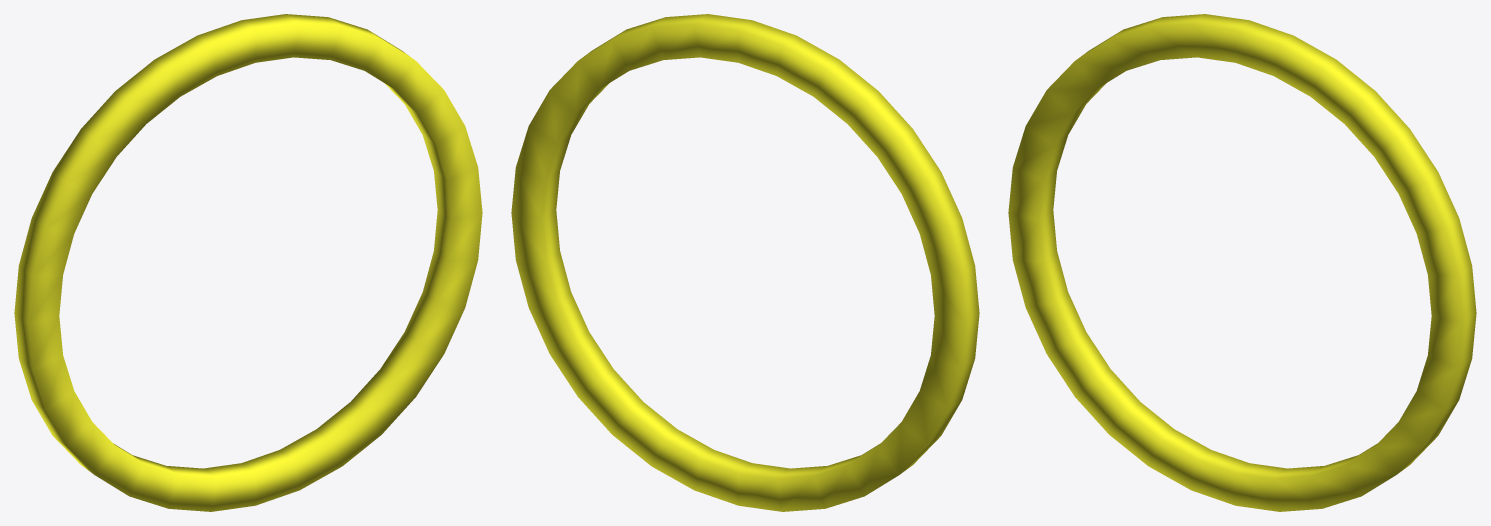
Rendered from newband6.glb.
3 renders of one model, left to right at view 1: azimuth 30°, elevation 25°; view 2: azimuth 150°, elevation 25°; view 3: azimuth 330°, elevation 25°, orthographic.
Parts seen in each view (by area): view 1: Circle; view 2: Circle; view 3: Circle.
Boxes of the visible parts, bbox=[...] form: Circle: bbox=[14, 14, 482, 511]; Circle: bbox=[511, 14, 979, 511]; Circle: bbox=[1008, 14, 1476, 511].
Bounding box in the file's own units: 2.31 × 2.31 × 0.1235.
Materials: 1 (1 with a texture image).
